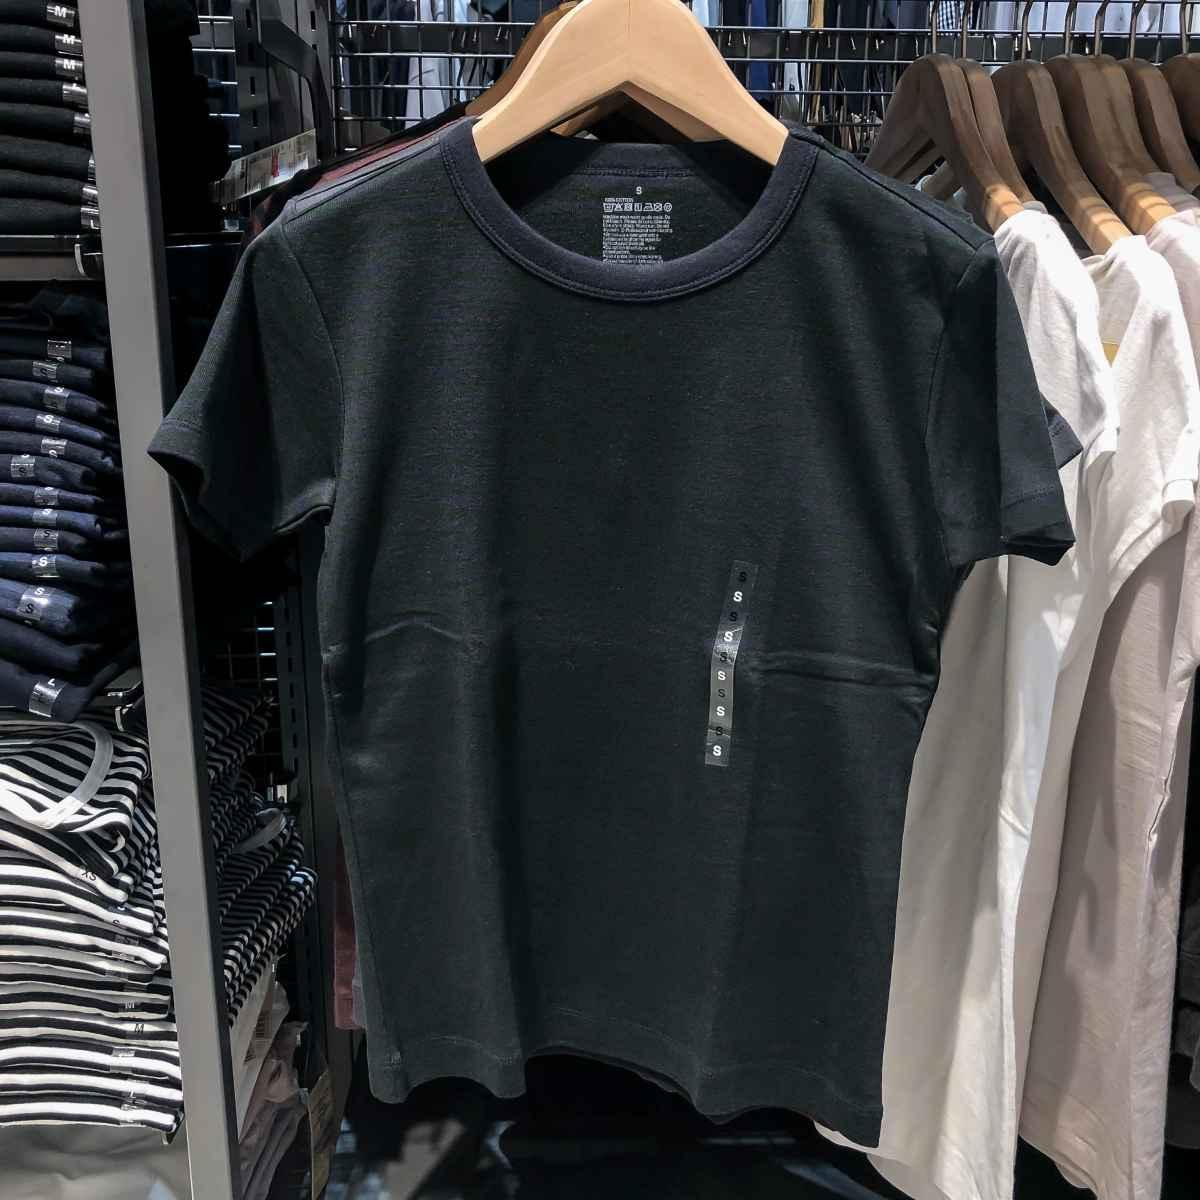Tshirt: (164, 131, 1058, 1155)
